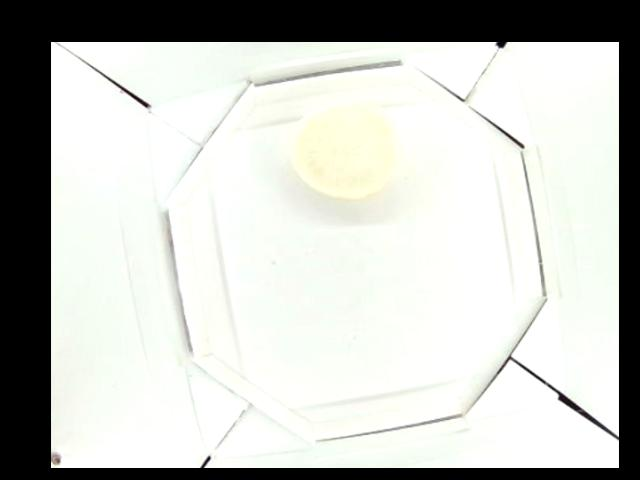Mooli: (290, 102, 397, 198)
